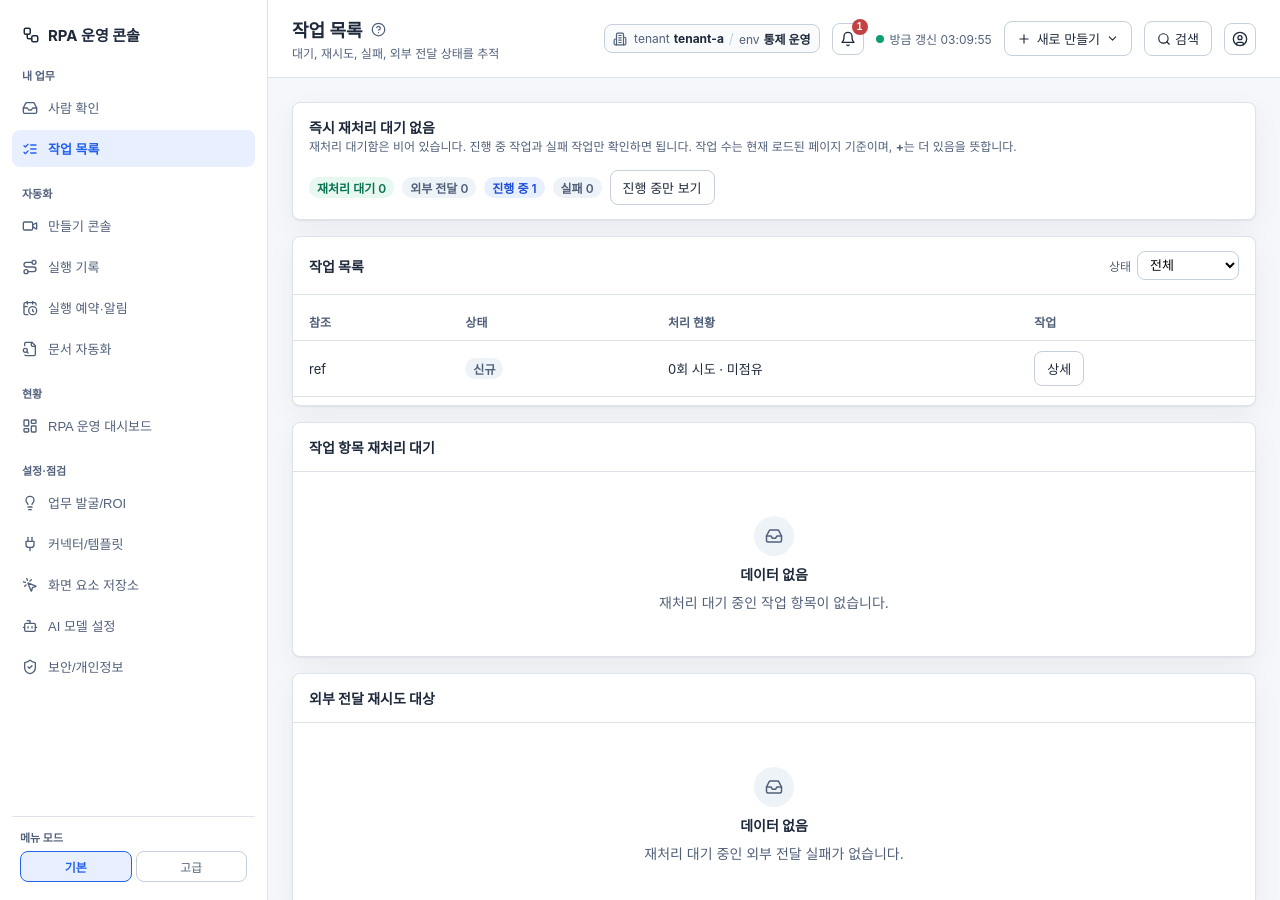
Scenario: 작업항목·사람확인 상세 드릴다운 › 작업항목 상세: run_id null이면 '원본 실행 보기' 미렌더(fabrication 가드)
The image size is (1280, 900).
Click the button "상세": click(1059, 368) [1034,351,1084,386]
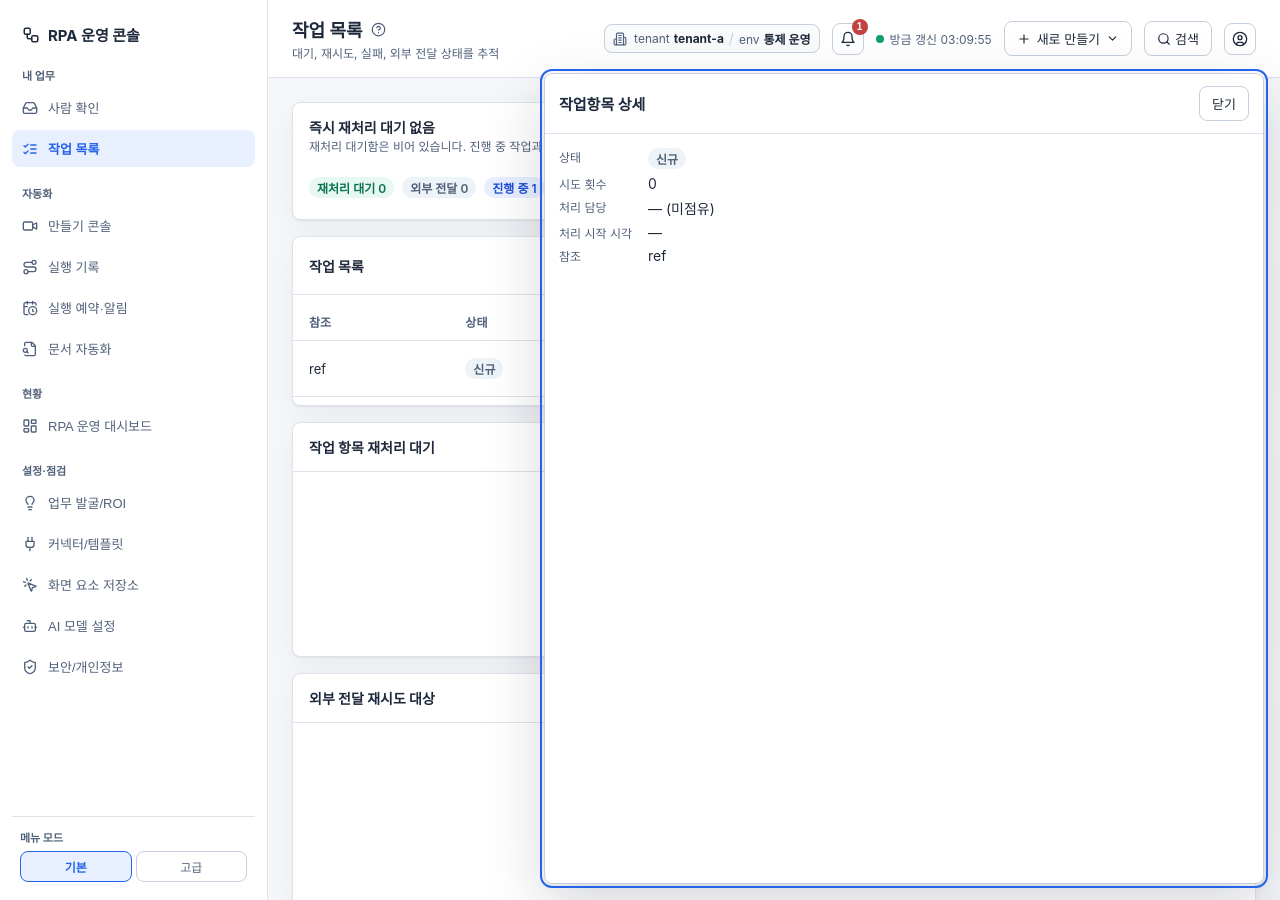
Expected: the text "— (미점유)" is shown, [648,200,715,217]
